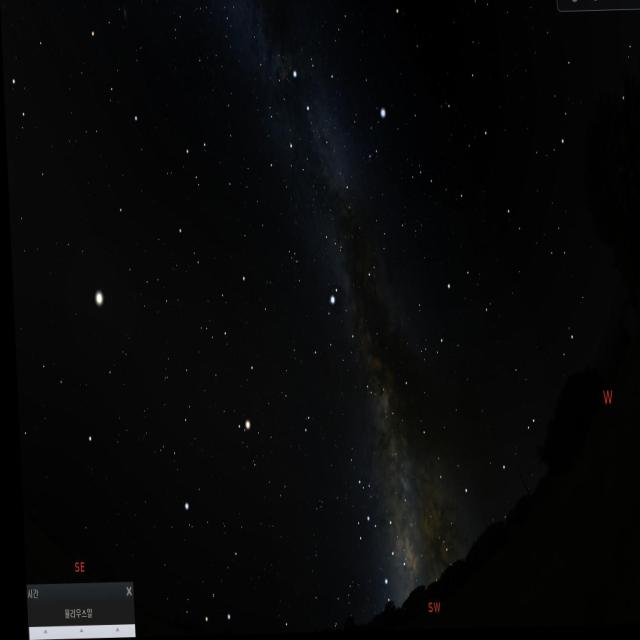aquila: (303, 276, 379, 405)
cygnus: (279, 60, 353, 228)
lyra: (353, 99, 390, 176)
sagittarius: (358, 506, 402, 602)
